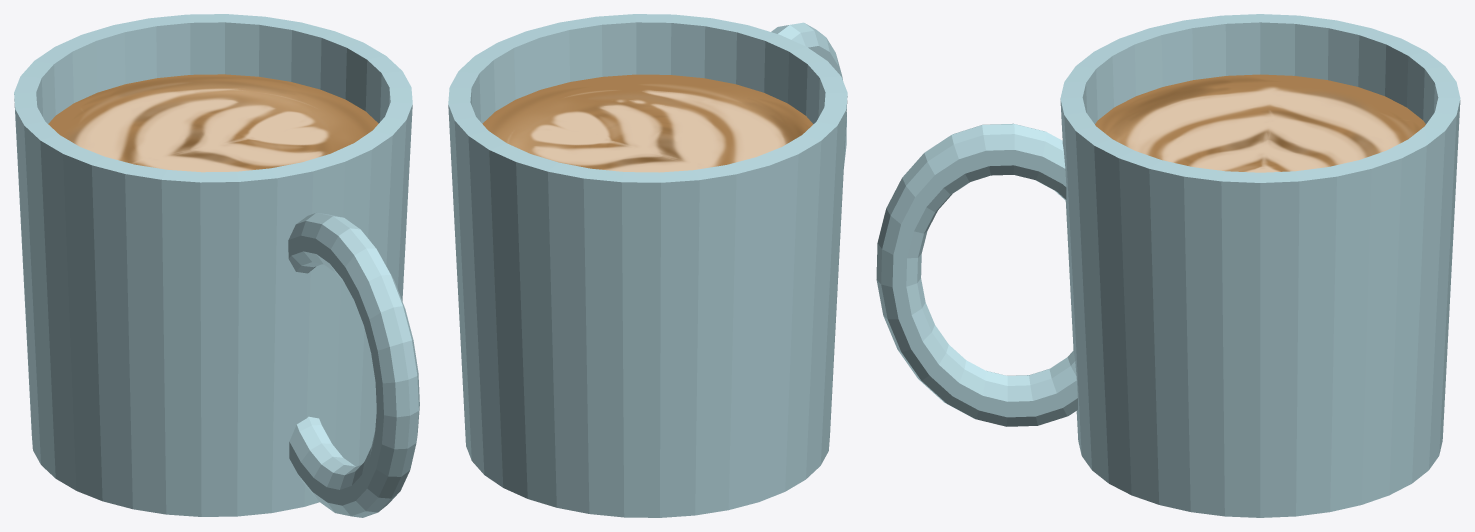
Rendered from coffeeCup.obj.
The picture shows the model from 3 angles, left to right: view 1: azimuth 30°, elevation 25°; view 2: azimuth 150°, elevation 25°; view 3: azimuth 270°, elevation 25°; orthographic projection.
Visible parts, largest first — view 1: Cone, Cone.001, Torus.001; view 2: Cone, Cone.001, Torus.001; view 3: Cone, Torus.001, Cone.001.
Boxes of the visible parts, x1=… form: Cone: x1=14, y1=14, x2=412, y2=516; Cone.001: x1=48, y1=74, x2=378, y2=172; Torus.001: x1=288, y1=212, x2=419, y2=517; Cone: x1=448, y1=14, x2=847, y2=517; Cone.001: x1=482, y1=74, x2=813, y2=172; Torus.001: x1=771, y1=22, x2=846, y2=168; Cone: x1=1060, y1=14, x2=1460, y2=517; Torus.001: x1=876, y1=123, x2=1077, y2=426; Cone.001: x1=1095, y1=74, x2=1425, y2=172.
Bounding box in the file's own units: 0.18 × 0.1705 × 0.2628.
3 materials, 3 textured.
